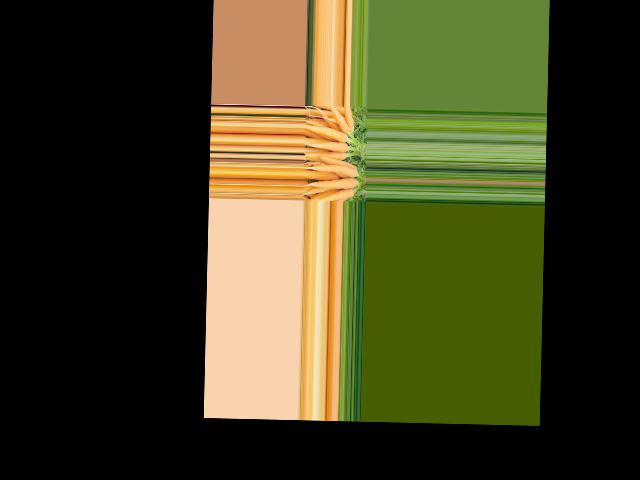carrot: (304, 175, 356, 191)
